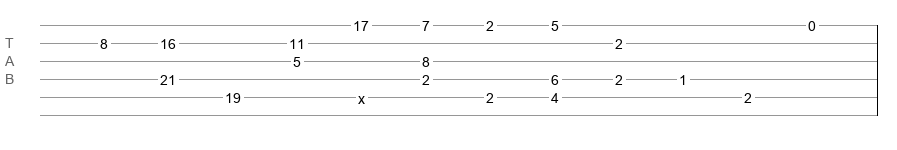0: (808, 18, 816, 28)
1: (679, 72, 687, 82)
11: (289, 36, 305, 46)
16: (160, 36, 176, 46)
17: (353, 18, 369, 28)
19: (225, 90, 241, 100)
2: (422, 72, 430, 82), (486, 90, 494, 100), (486, 18, 494, 28), (615, 72, 623, 82), (615, 36, 623, 46), (744, 90, 752, 100)
21: (160, 72, 176, 82)
4: (551, 90, 559, 100)
5: (293, 54, 301, 64), (551, 18, 559, 28)
6: (551, 72, 559, 82)
7: (422, 18, 430, 28)
8: (100, 36, 108, 46), (422, 54, 430, 64)
x: (358, 91, 365, 99)
